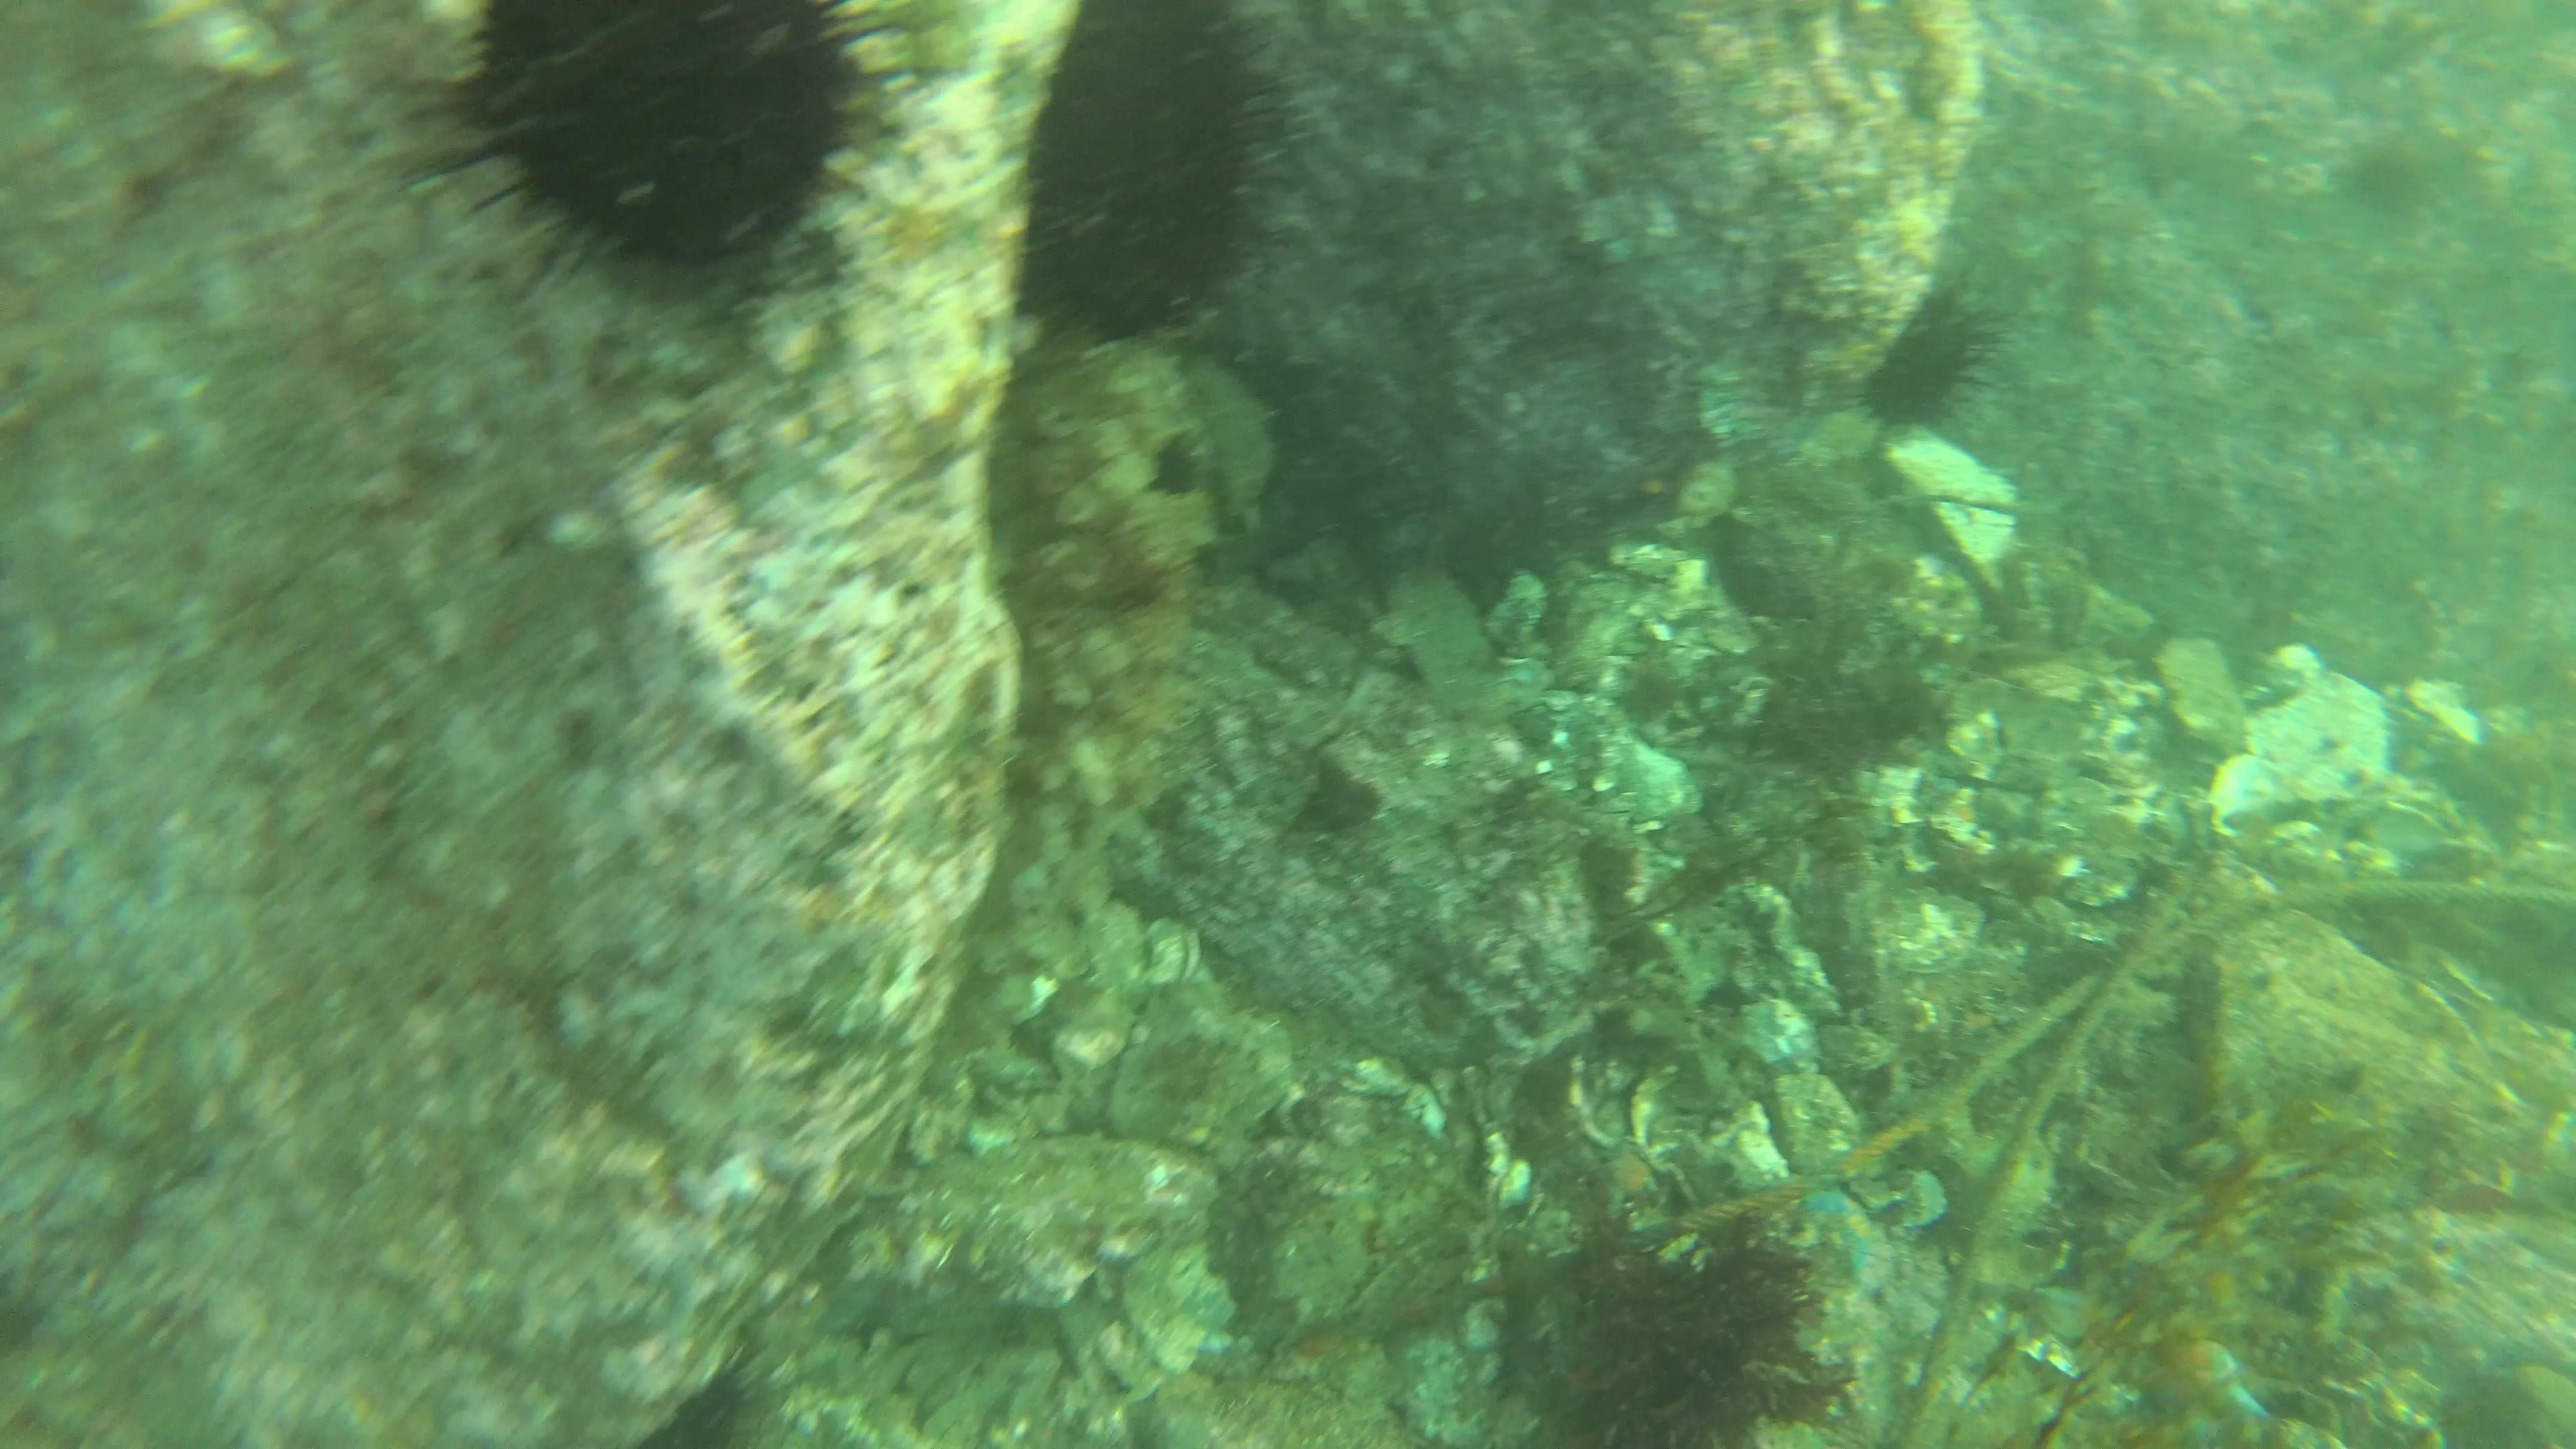echinus: (430, 0, 876, 313), (1014, 0, 1302, 336), (1870, 292, 2001, 428)
